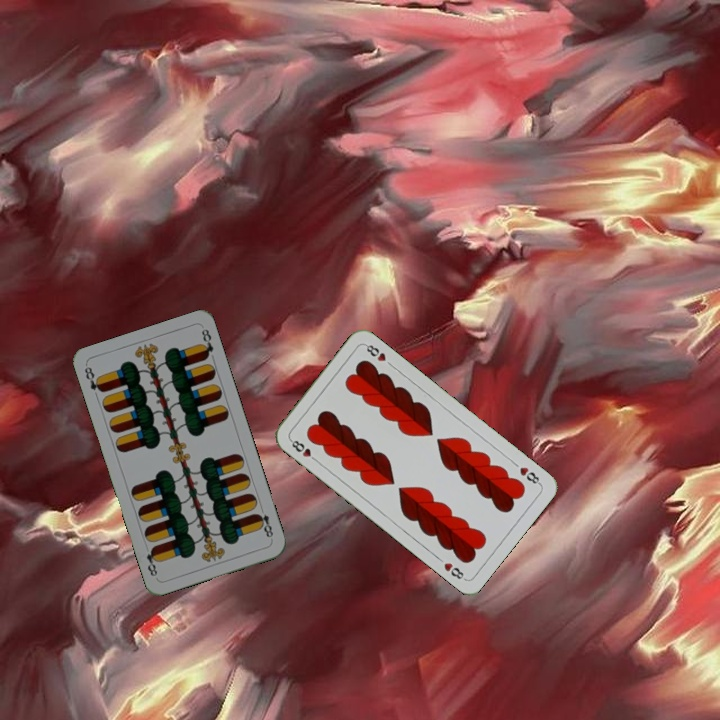E8: (252, 503, 276, 543), (80, 362, 106, 395)
H8: (286, 435, 321, 465), (516, 463, 543, 487)
